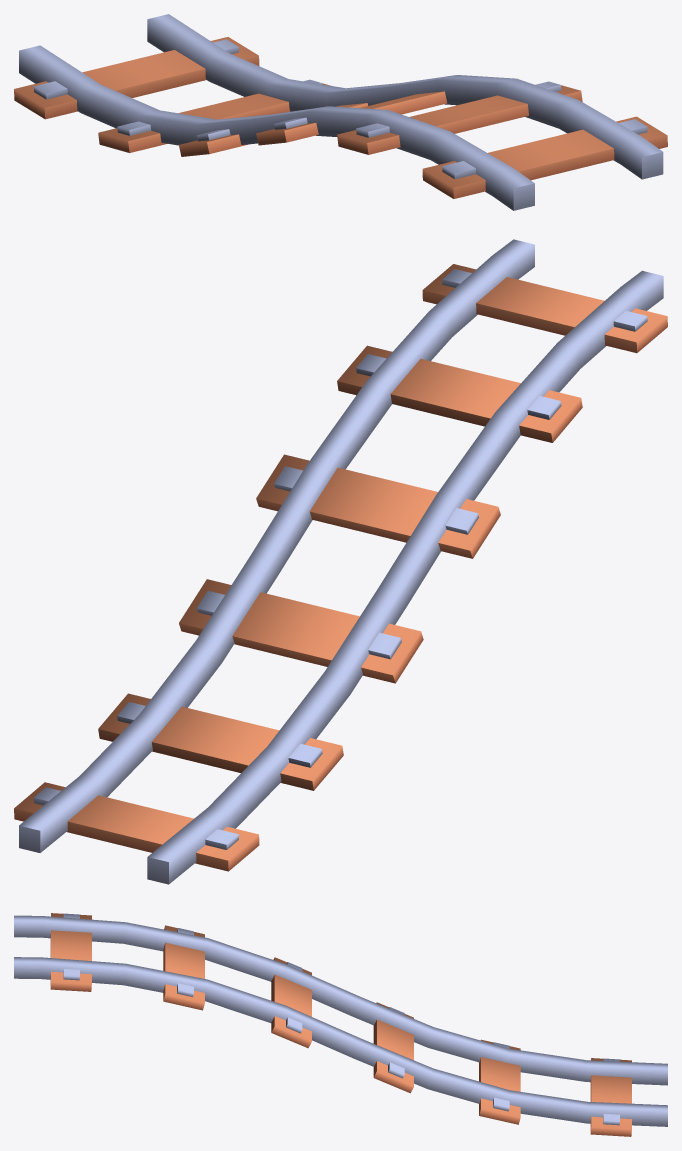
The model's file is railroad-straight-hill-complete.glb.
The picture shows the model from 3 angles, top to bottom: view 1: azimuth 30°, elevation 25°; view 2: azimuth 150°, elevation 25°; view 3: azimuth 270°, elevation 25°; orthographic projection. The views are drawn at different scales.
Visible parts, largest first — view 1: railroad-straight-hill-complete; view 2: railroad-straight-hill-complete; view 3: railroad-straight-hill-complete.
Part boxes in pixels (x1,y1,x2,y2): railroad-straight-hill-complete: (14, 14, 667, 210); railroad-straight-hill-complete: (14, 239, 667, 884); railroad-straight-hill-complete: (14, 913, 667, 1136).
Bounding box in the file's own units: 1 × 1.1 × 4.
Materials: 1 (1 with a texture image).
